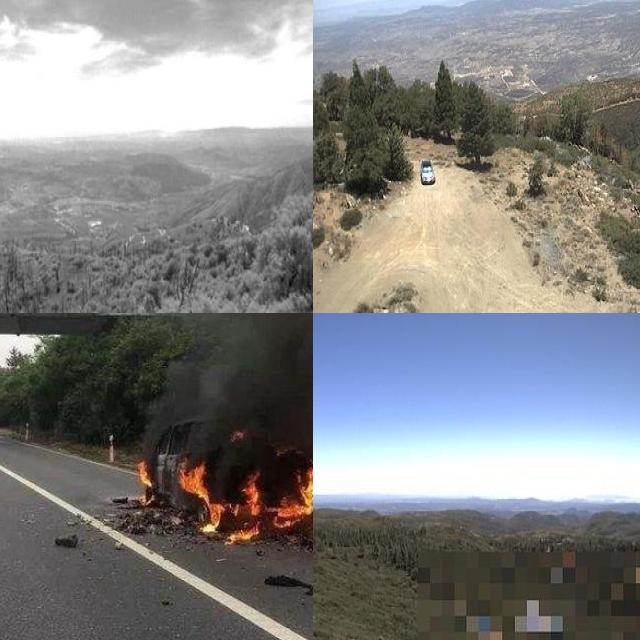fire: (138, 421, 313, 543)
